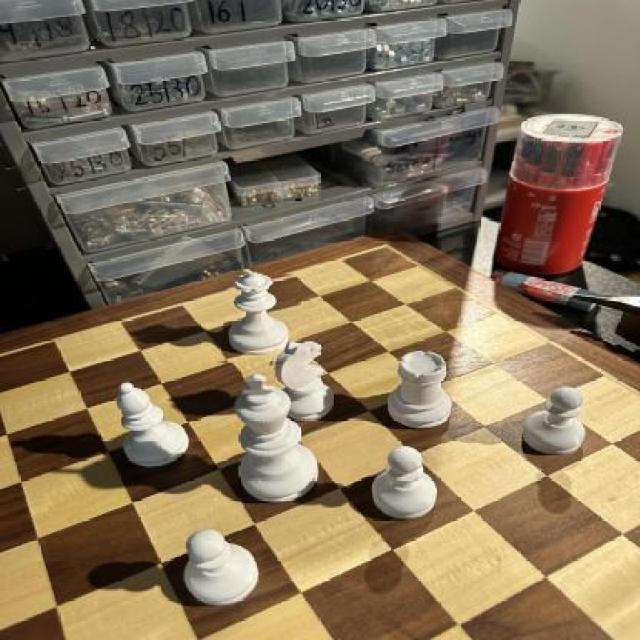black-rook: (106, 380, 196, 474)
white-bishop: (235, 374, 328, 507)
white-king: (272, 343, 340, 423)
white-knight: (178, 530, 268, 612), (369, 443, 446, 525), (521, 385, 597, 459)
white-pawn: (222, 271, 300, 365)
white-queen: (383, 351, 459, 434)
